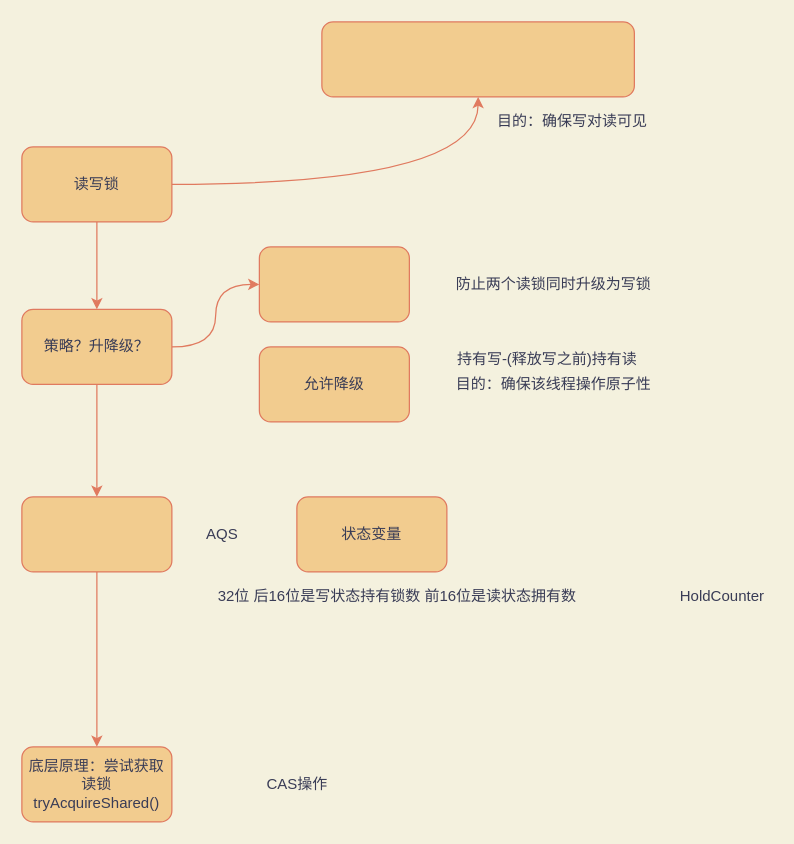
This 794x844 diagram has some shape labels left out. Here are the shapes that lost their labels. From the top down, the centre of each, then its label:
At point 477,59: "读写互斥！（就是那个逻辑图）".
At point 333,284: "1.不允许升级".
At point 96,534: "实现方式".
